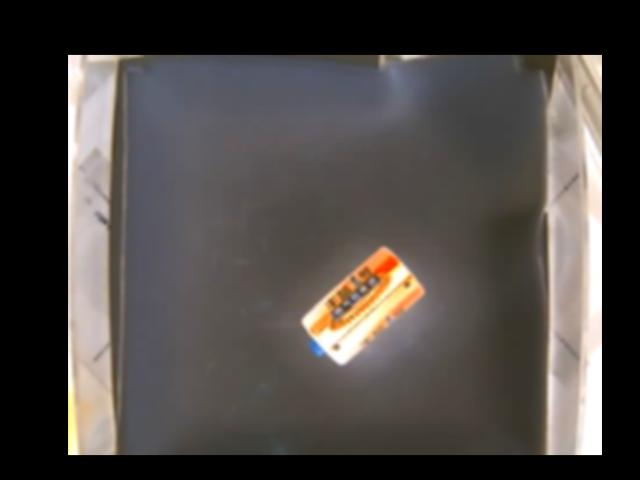Battery: (299, 246, 425, 365)
